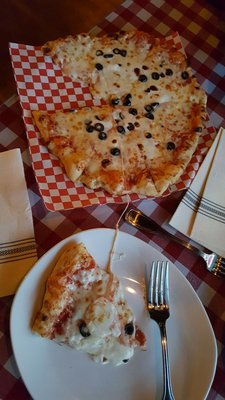burger: (122, 202, 224, 275), (147, 262, 172, 400)
